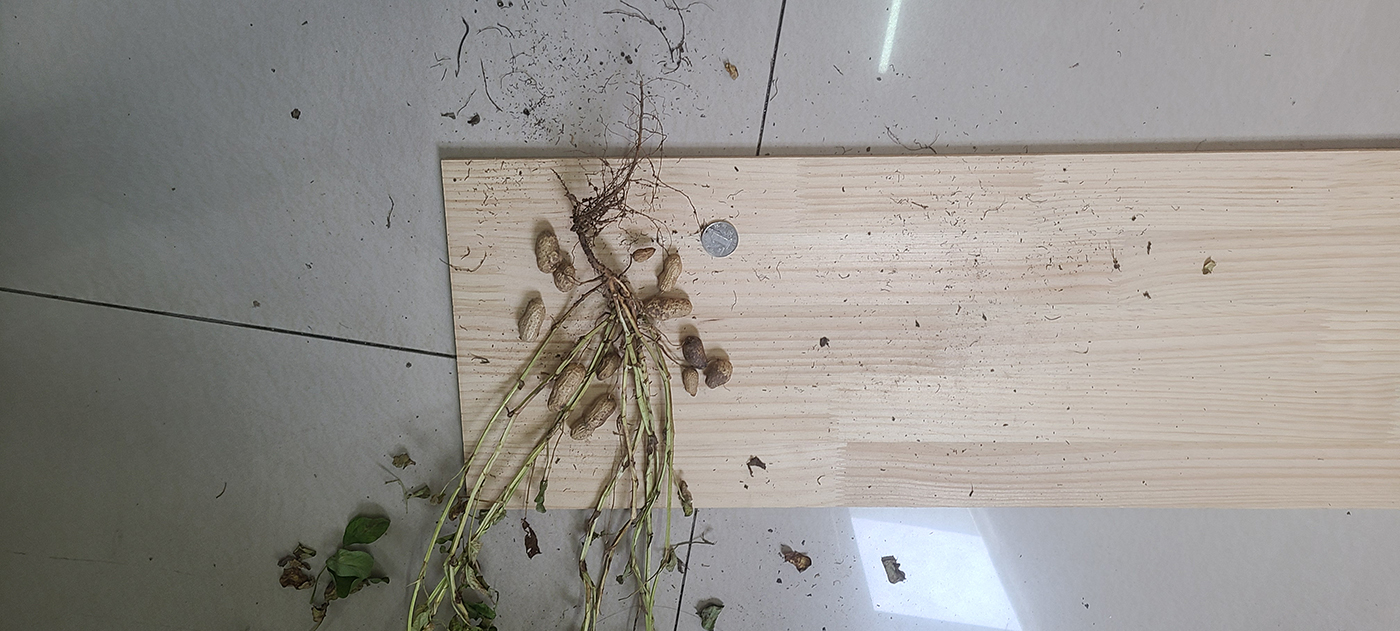h: (569, 394, 618, 442), (547, 363, 587, 412), (518, 298, 545, 342), (642, 297, 693, 320), (535, 231, 560, 272), (658, 253, 683, 291), (596, 353, 621, 382), (553, 263, 575, 292), (681, 368, 700, 396)
l: (705, 358, 732, 389), (682, 335, 708, 367)
